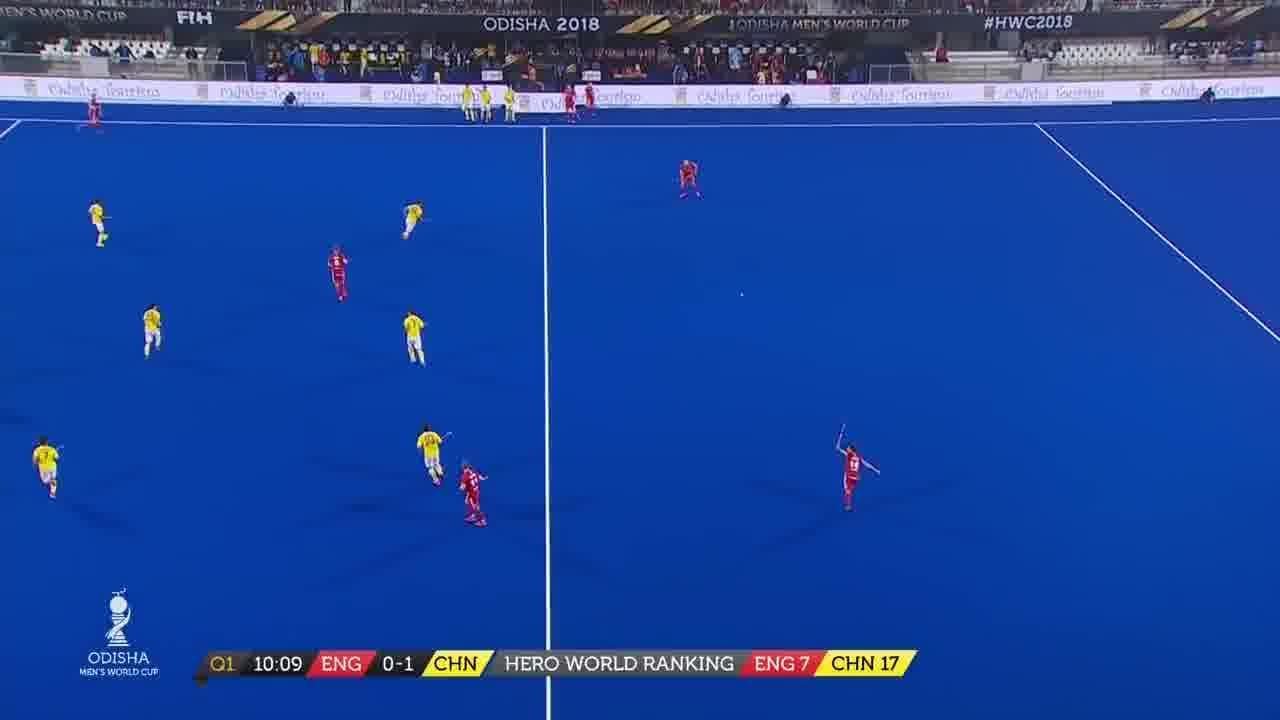ball: (736, 288, 750, 302)
